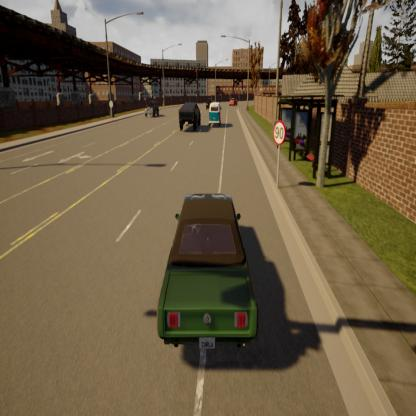Cars: (158, 194, 258, 356), (178, 102, 201, 130), (144, 99, 158, 117), (210, 103, 221, 125), (230, 95, 237, 107)
